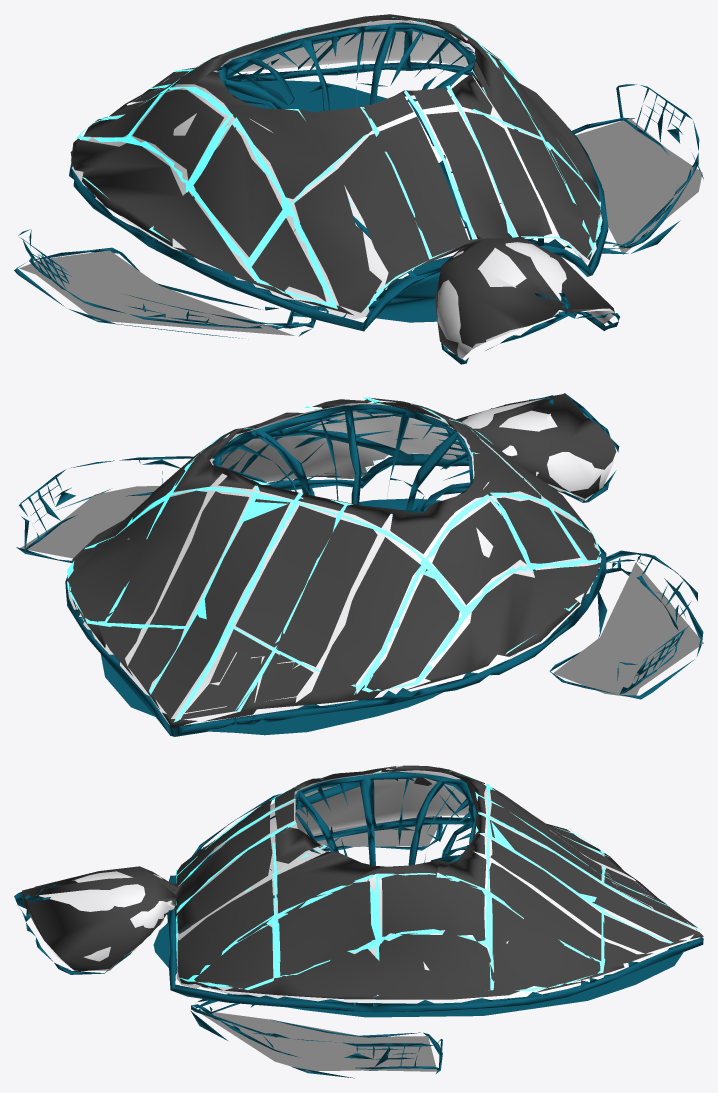
File: habitat.glb
3 views of the same model, one above another, from view 1: azimuth 30°, elevation 25°; view 2: azimuth 150°, elevation 25°; view 3: azimuth 270°, elevation 25° (orthographic). The views are drawn at different scales.
Parts seen in each view (by area): view 1: Object_4_4, Object_7_1, Object_3_3, Object_2_0, Object_6_6; view 2: Object_4_4, Object_7_1, Object_2_0, Object_3_3, Object_6_6; view 3: Object_4_4, Object_7_1, Object_2_0, Object_3_3, Object_6_6.
Part boxes in pixels (<box>): Object_4_4: <box>71,14,614,359</box>; Object_7_1: <box>14,22,703,364</box>; Object_3_3: <box>19,118,702,335</box>; Object_2_0: <box>70,20,613,358</box>; Object_6_6: <box>76,17,600,312</box>; Object_4_4: <box>67,393,616,728</box>; Object_7_1: <box>16,393,703,736</box>; Object_2_0: <box>67,398,613,725</box>; Object_3_3: <box>20,486,703,696</box>; Object_6_6: <box>67,397,600,722</box>; Object_4_4: <box>22,765,703,999</box>; Object_7_1: <box>14,771,703,1078</box>; Object_2_0: <box>31,770,700,1003</box>; Object_3_3: <box>201,816,439,1071</box>; Object_6_6: <box>176,767,701,997</box>.
Bounding box in the file's own units: 2.98 × 0.784 × 3.18.
5 materials, 5 textured.
